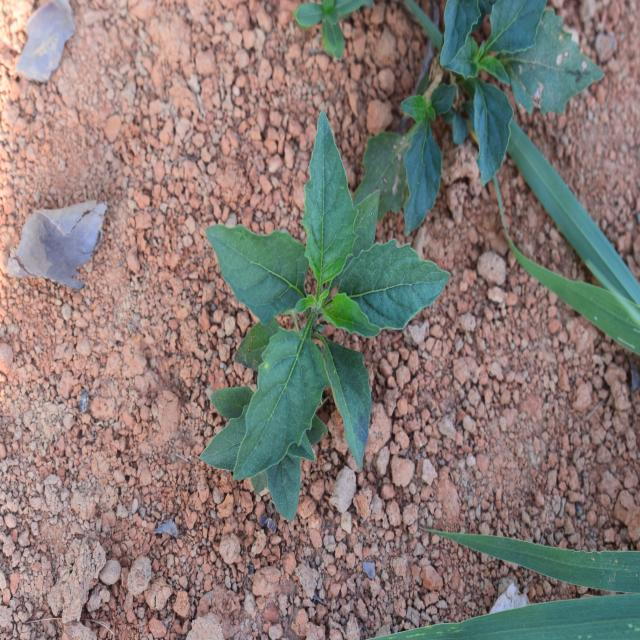Black_nightshade: (209, 131, 441, 520)
